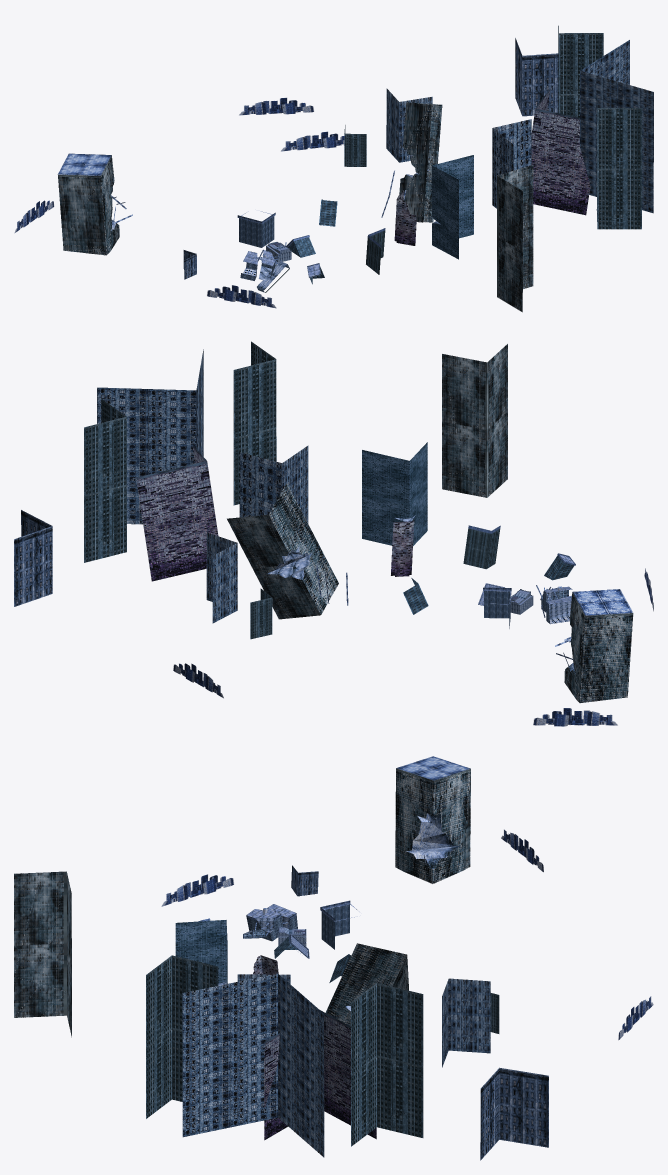
Rendered from Sunken City Night.glb.
3 views of the same model, one above another, from view 1: azimuth 30°, elevation 25°; view 2: azimuth 150°, elevation 25°; view 3: azimuth 270°, elevation 25° (orthographic). The views are drawn at different scales.
Parts seen in each view (by area): view 1: object_55, object_38, object_53, object_35, object_2, object_58, object_0, object_5, object_54, object_57, object_41, object_56 (+7 smaller); view 2: object_55, object_38, object_41, object_57, object_35, object_2, object_4, object_5, object_54, object_58, object_56, object_52 (+8 smaller); view 3: object_55, object_53, object_58, object_41, object_35, object_54, object_38, object_56, object_5, object_2, object_0, object_37 (+4 smaller).
Part boxes in pixels (<box>): object_55: <box>558,25,642,229</box>; object_38: <box>394,88,590,245</box>; object_53: <box>492,71,653,213</box>; object_35: <box>57,155,119,255</box>; object_2: <box>432,155,473,259</box>; object_58: <box>497,176,522,312</box>; object_0: <box>14,97,344,308</box>; object_5: <box>399,102,432,222</box>; object_54: <box>515,38,558,116</box>; object_57: <box>497,165,533,288</box>; object_41: <box>240,40,629,280</box>; object_56: <box>386,88,432,162</box>; object_55: <box>84,341,276,562</box>; object_38: <box>136,445,414,581</box>; object_41: <box>97,387,568,623</box>; object_57: <box>442,354,487,497</box>; object_35: <box>564,592,633,703</box>; object_2: <box>362,442,427,545</box>; object_4: <box>227,514,320,619</box>; object_5: <box>269,483,338,614</box>; object_54: <box>14,510,52,606</box>; object_58: <box>487,344,507,497</box>; object_56: <box>206,532,237,623</box>; object_52: <box>239,452,282,517</box>; object_55: <box>146,955,423,1146</box>; object_53: <box>182,973,290,1137</box>; object_58: <box>14,871,66,1017</box>; object_41: <box>246,915,324,1157</box>; object_35: <box>395,768,470,883</box>; object_54: <box>480,1067,548,1160</box>; object_38: <box>253,955,376,1140</box>; object_56: <box>442,978,490,1067</box>; object_5: <box>325,943,406,1026</box>; object_2: <box>175,920,227,983</box>; object_0: <box>161,829,653,1039</box>; object_37: <box>406,813,461,869</box>.
Size of what is drawn, in the model's own units: 844 by 228 by 724.
Materials: 25 (25 with a texture image).
